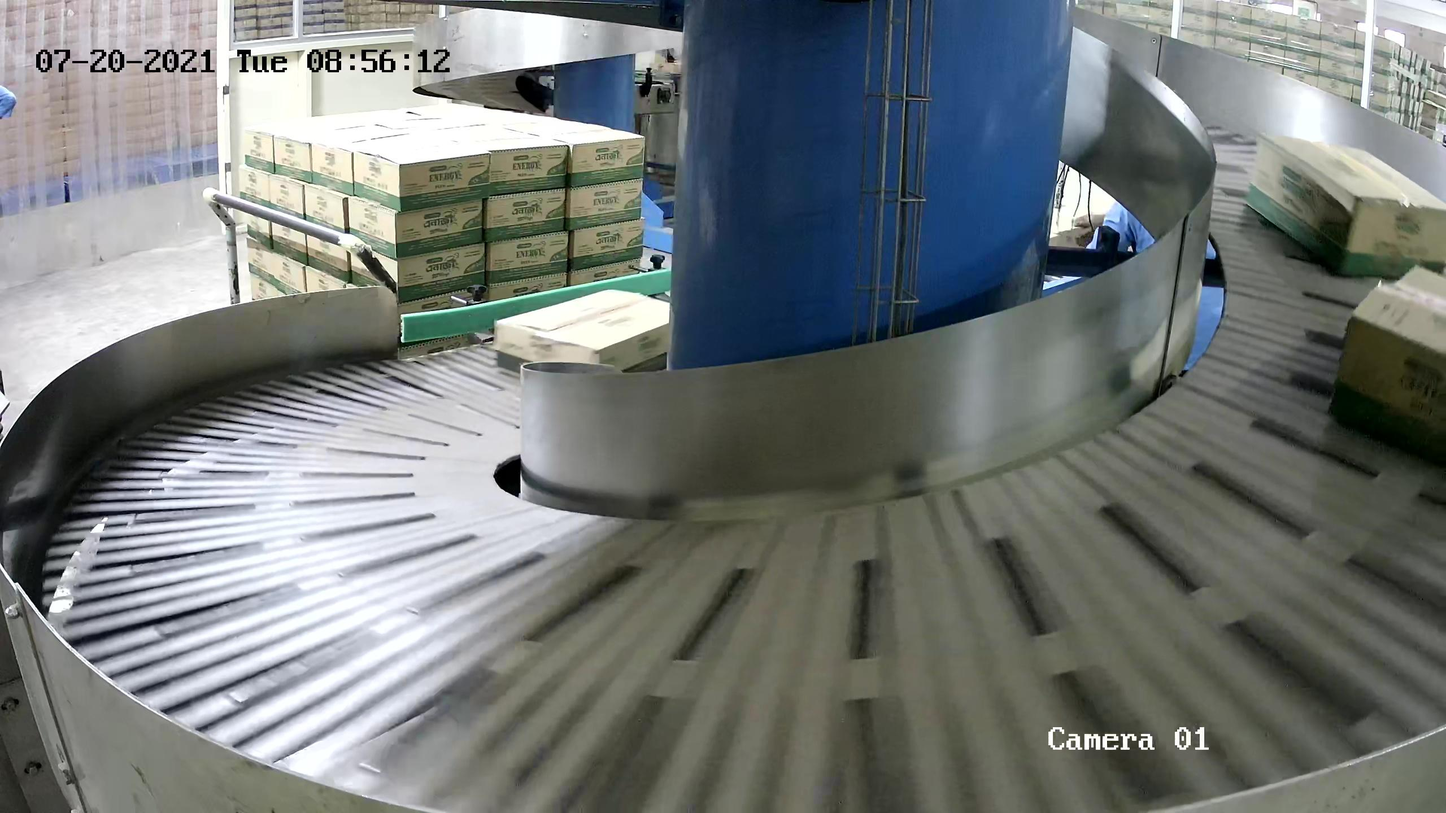Box: (1242, 128, 1444, 278), (1326, 261, 1446, 464), (492, 286, 695, 398)
